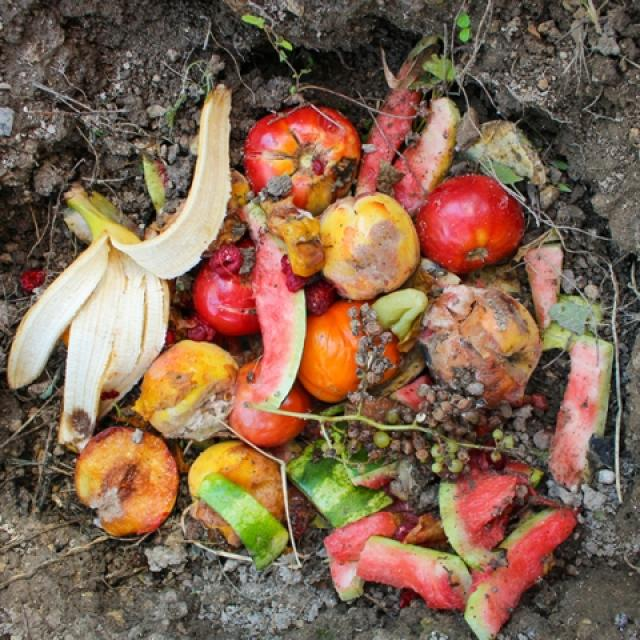fruits - vegetables_waste: (52, 137, 546, 572)
